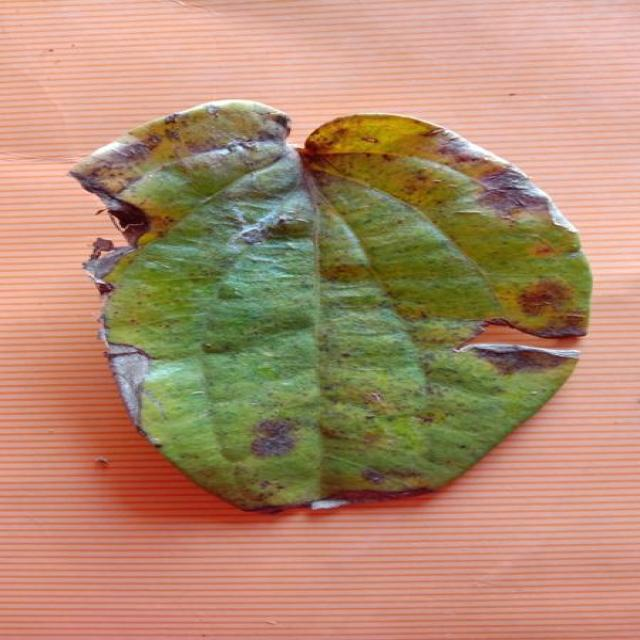disease in leaf: (72, 101, 592, 509)
